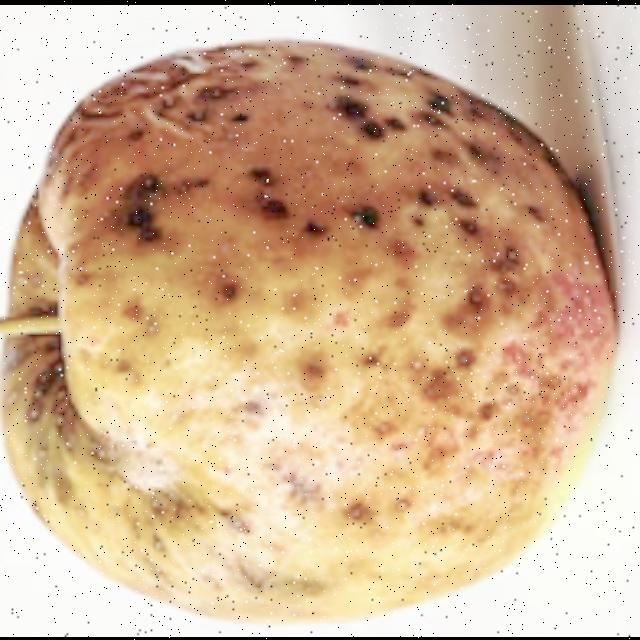Apel Tidak Segar: (0, 24, 628, 632)
